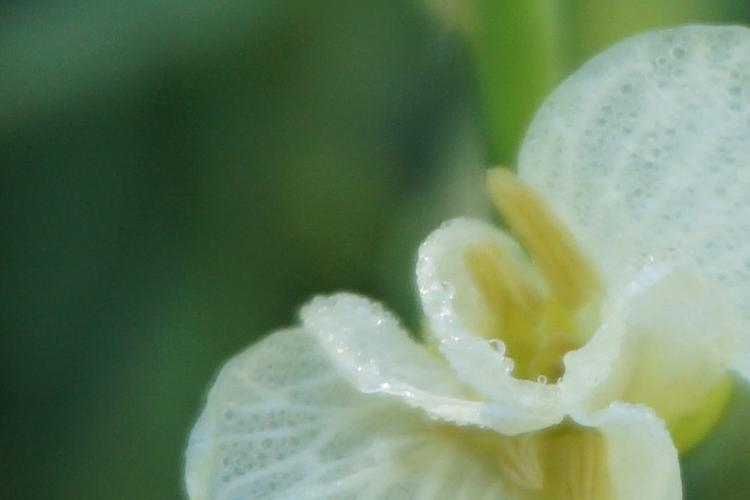white: (187, 38, 750, 495)
